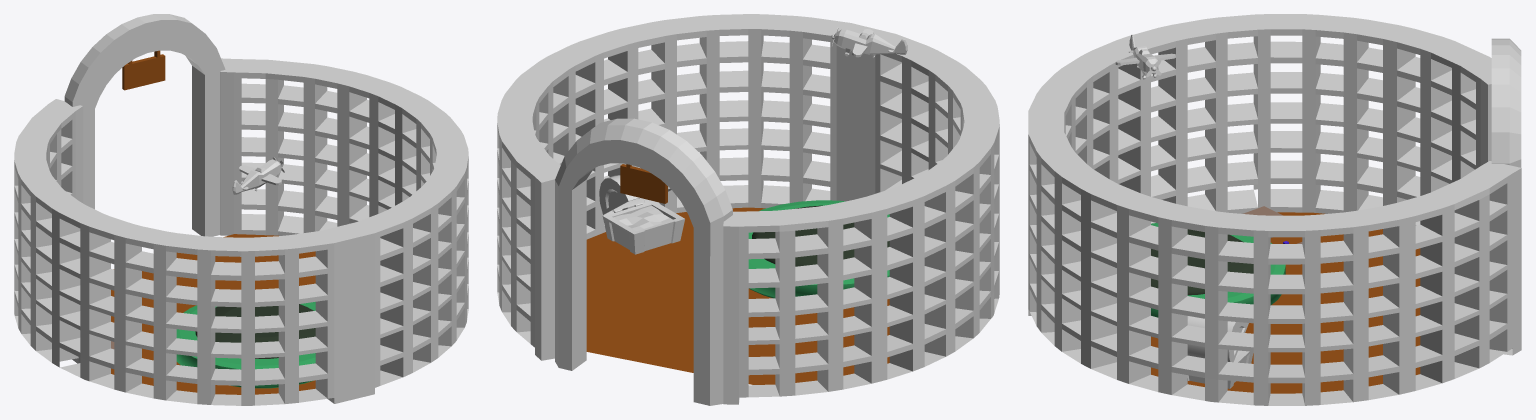
3 renders of one model, left to right at view 1: azimuth 30°, elevation 25°; view 2: azimuth 150°, elevation 25°; view 3: azimuth 270°, elevation 25°, orthographic. The views are drawn at different scales.
Parts seen in each view (by area): view 1: area.002, Cylinder, area.001, poef, poef.002, Cube.004, mainplane; view 2: area.002, Cylinder, area.001, Bottom_Half_Chest, Cube.004, poef, mainplane, Top_Half_Chest, poef.002, GoldInside_Chest; view 3: area.002, area.001, Cylinder, poef.002, poef, Top_Half_Chest, mainplane.
Part boxes in pixels (x1,y1,x2,y2): area.002: (14,58,468,405); Cylinder: (64,14,225,236); area.001: (111,234,315,394); poef: (176,302,315,388); poef.002: (195,304,315,358); Cube.004: (122,50,165,90); mainplane: (232,159,281,194); area.002: (497,14,999,404); Cylinder: (555,118,732,405); area.001: (586,207,889,384); Bottom_Half_Chest: (602,201,684,254); Cube.004: (620,164,667,203); poef: (748,200,889,298); mainplane: (834,29,907,55); Top_Half_Chest: (599,175,671,214); poef.002: (752,205,889,266); GoldInside_Chest: (613,205,672,230); area.002: (1028,14,1521,405); area.001: (1151,212,1420,393); Cylinder: (1491,38,1521,167); poef.002: (1151,229,1253,295); poef: (1151,223,1285,317); Top_Half_Chest: (1187,316,1248,362); mainplane: (1129,34,1158,78).
Bounding box in the file's own units: 1021 × 574 × 982.
